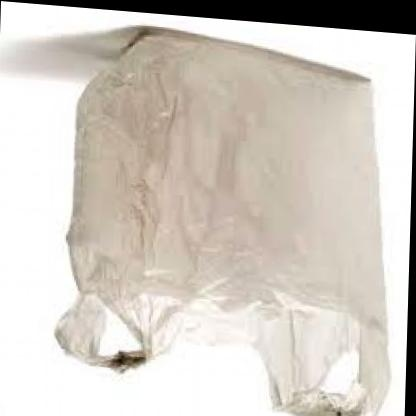trash: (55, 27, 388, 415)
